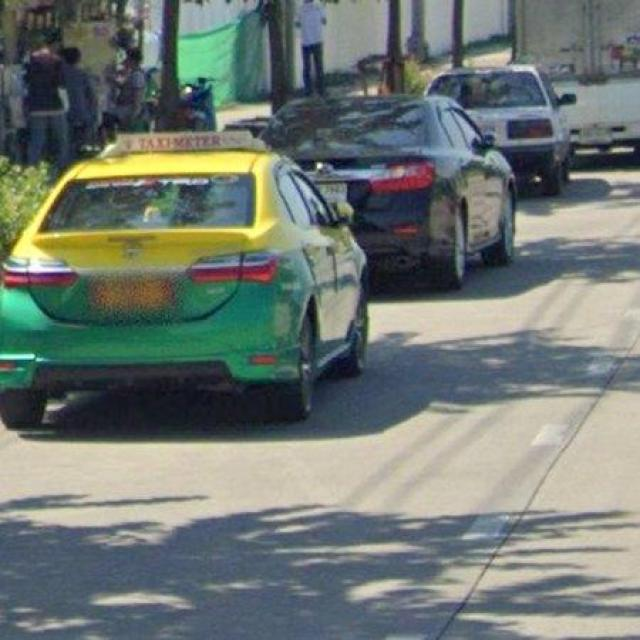Taxi: (0, 134, 368, 429)
